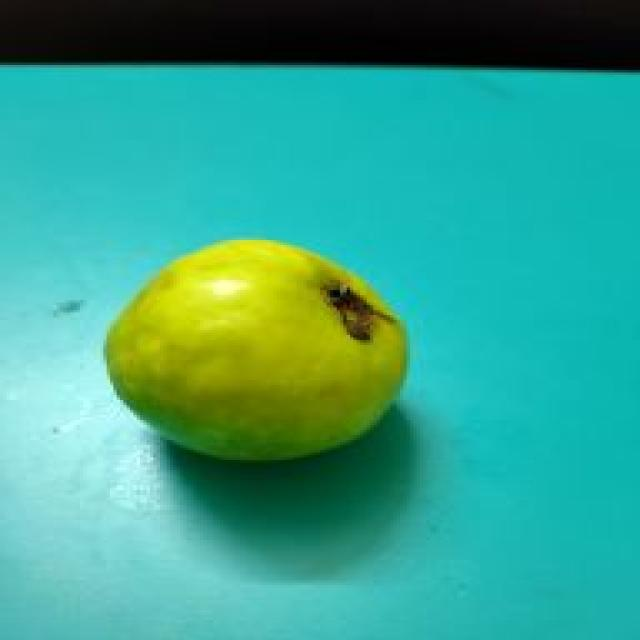Good_Guava: (103, 238, 410, 465)
